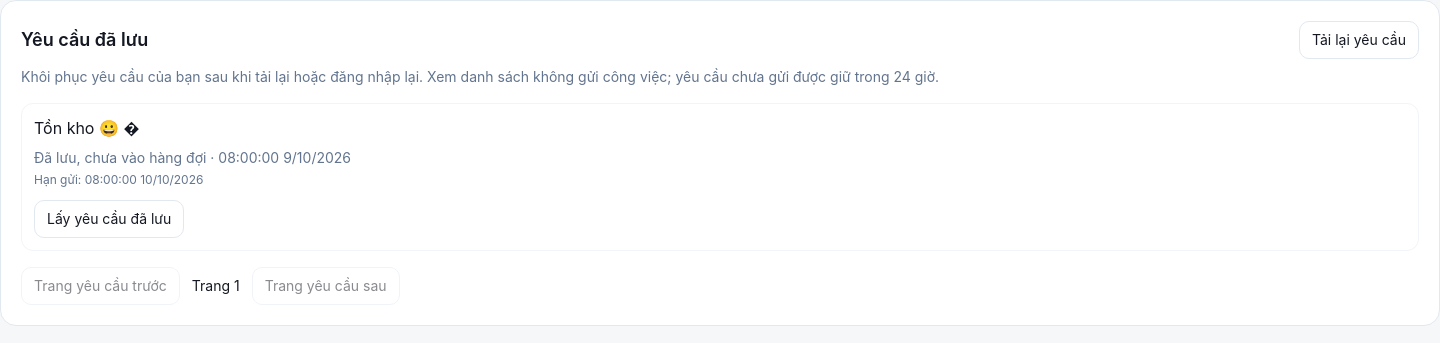
clears private data on HTTP401 and never paints an upstream diagnostic
Expected: the text "Tồn kho 😀 �" is shown, [34,118,139,138]
Click the button "Tải lại yêu cầu" at (1359, 40), box [1299,21,1419,59]
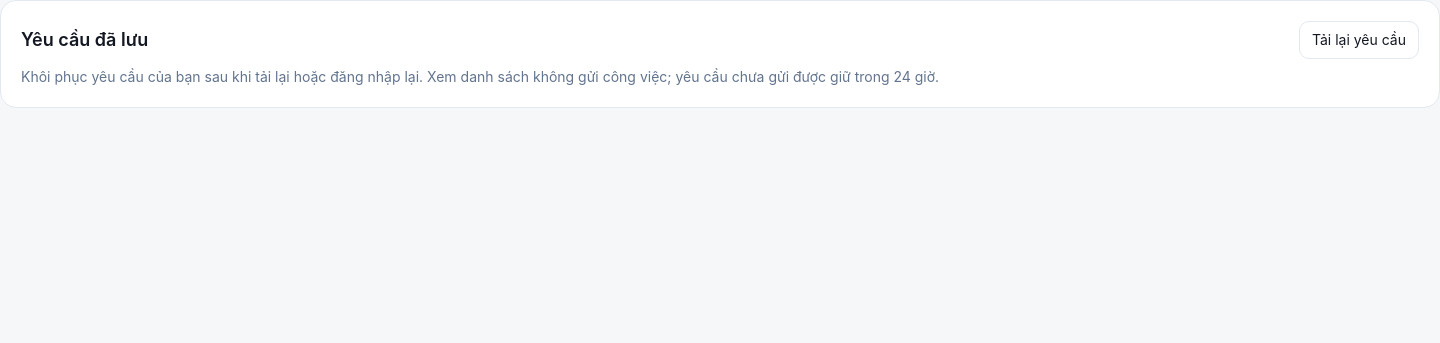
Expected: the text "Tồn kho 😀 �" is gone
